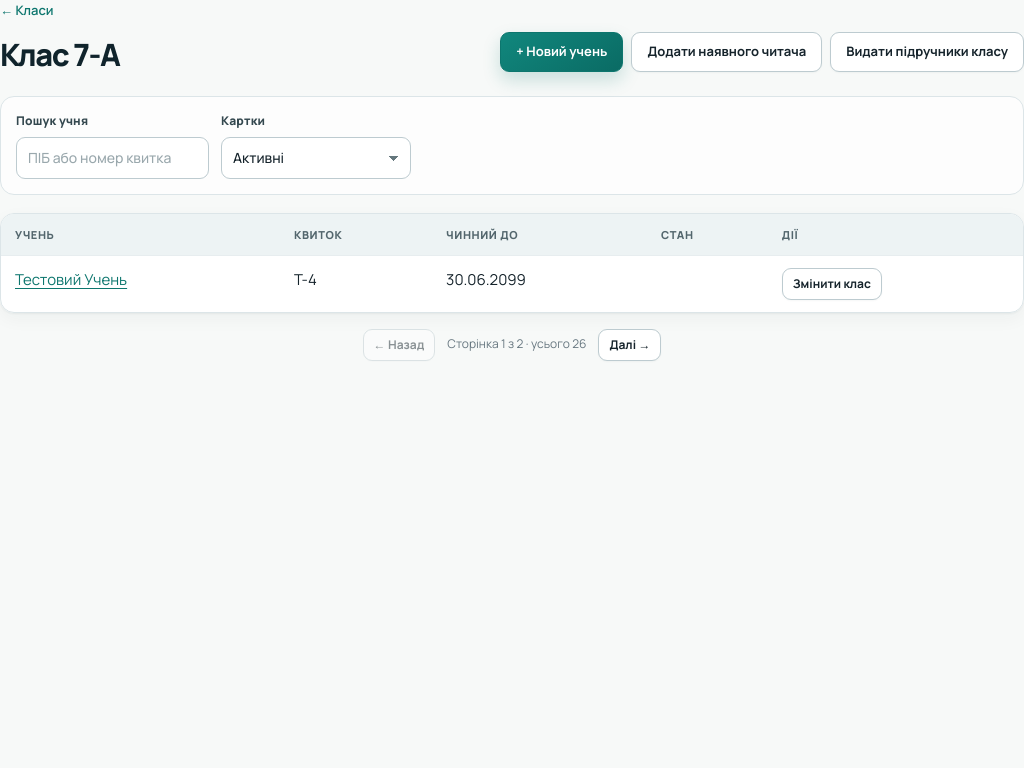
Test: картка класу › нова реєстрація одразу має вибраний клас
Expected: the heading "Клас 7-А" is shown, [0,36,120,72]
Click the button "+ Новий учень": point(562, 52) [500,32,623,72]
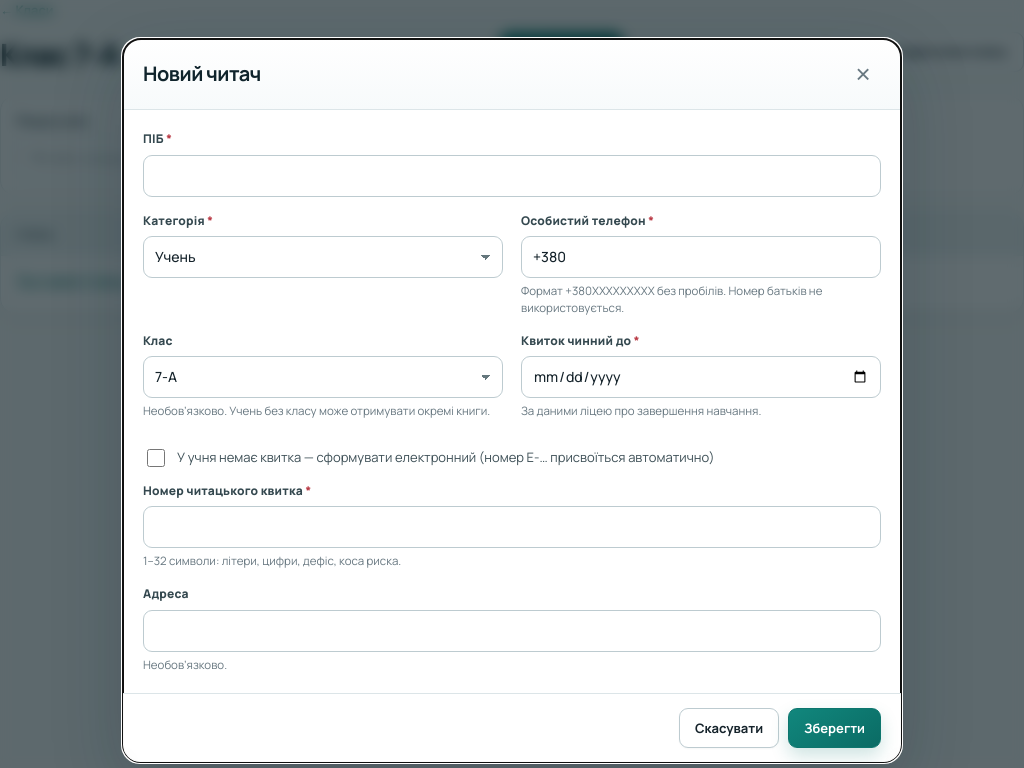
Expected: the dropdown labelled "Клас" shows "7-А", [143,356,503,398]
